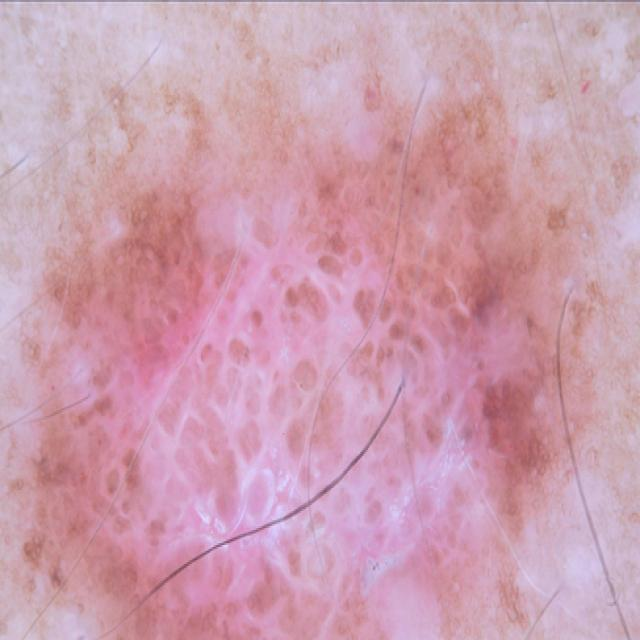Dermatofibroma: (10, 176, 605, 640)
